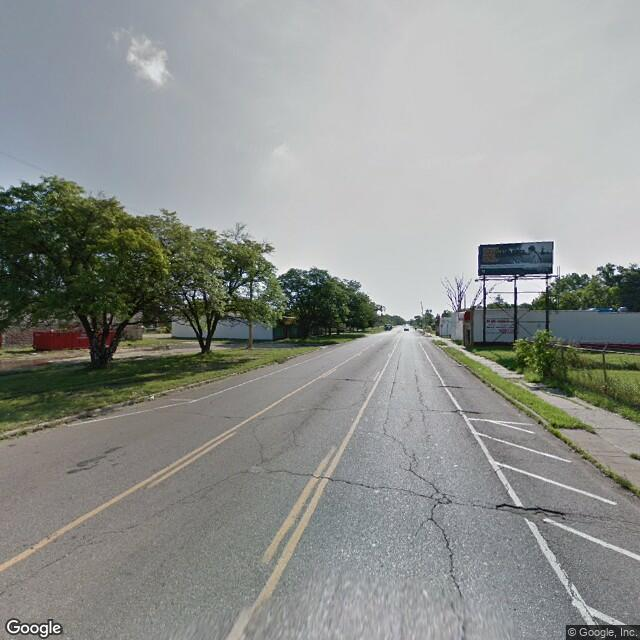litter: (145, 390, 161, 403)
